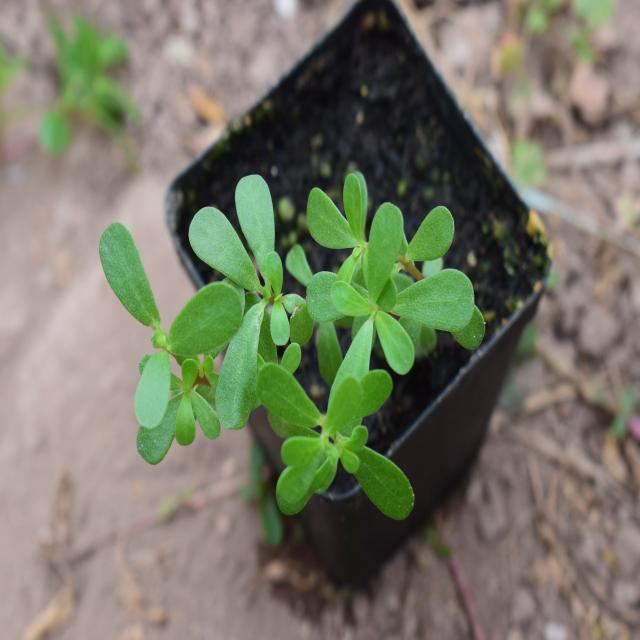purslane: (87, 167, 488, 524)
